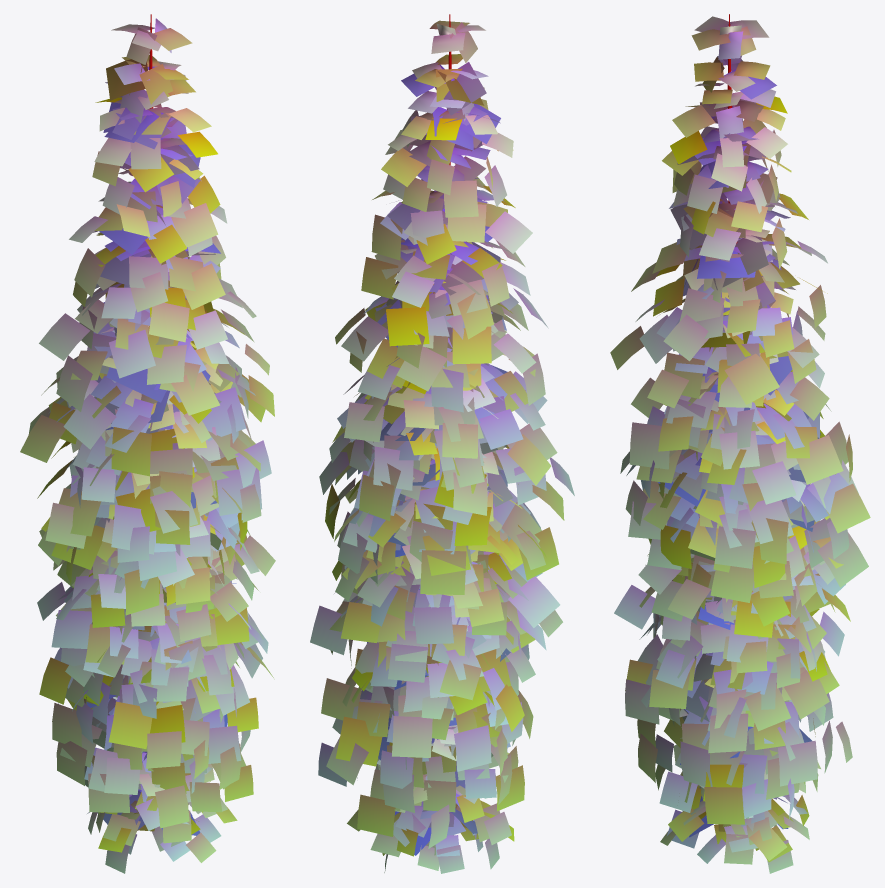
The model's file is trees_lod1.glb.
3 renders of one model, left to right at view 1: azimuth 30°, elevation 25°; view 2: azimuth 150°, elevation 25°; view 3: azimuth 270°, elevation 25°, orthographic.
Parts seen in each view (by area): view 1: tall_lod1_leaves, hemlock_lod1_leaves, spruce_lod1_leaves, young_lod1_leaves; view 2: tall_lod1_leaves, hemlock_lod1_leaves, spruce_lod1_leaves, young_lod1_leaves; view 3: tall_lod1_leaves, hemlock_lod1_leaves, spruce_lod1_leaves, young_lod1_leaves.
Part boxes in pixels (x1,y1,x2,y2): tall_lod1_leaves: (20, 18, 274, 627); hemlock_lod1_leaves: (39, 404, 262, 828); spruce_lod1_leaves: (37, 237, 275, 722); young_lod1_leaves: (87, 697, 237, 873); tall_lod1_leaves: (319, 20, 574, 635); hemlock_lod1_leaves: (318, 446, 533, 848); spruce_lod1_leaves: (310, 236, 562, 739); young_lod1_leaves: (347, 725, 514, 873); tall_lod1_leaves: (610, 16, 870, 626); hemlock_lod1_leaves: (625, 389, 852, 824); spruce_lod1_leaves: (614, 210, 850, 731); young_lod1_leaves: (660, 678, 820, 873).
Bounding box in the file's own units: 9.75 × 32.93 × 9.28.
